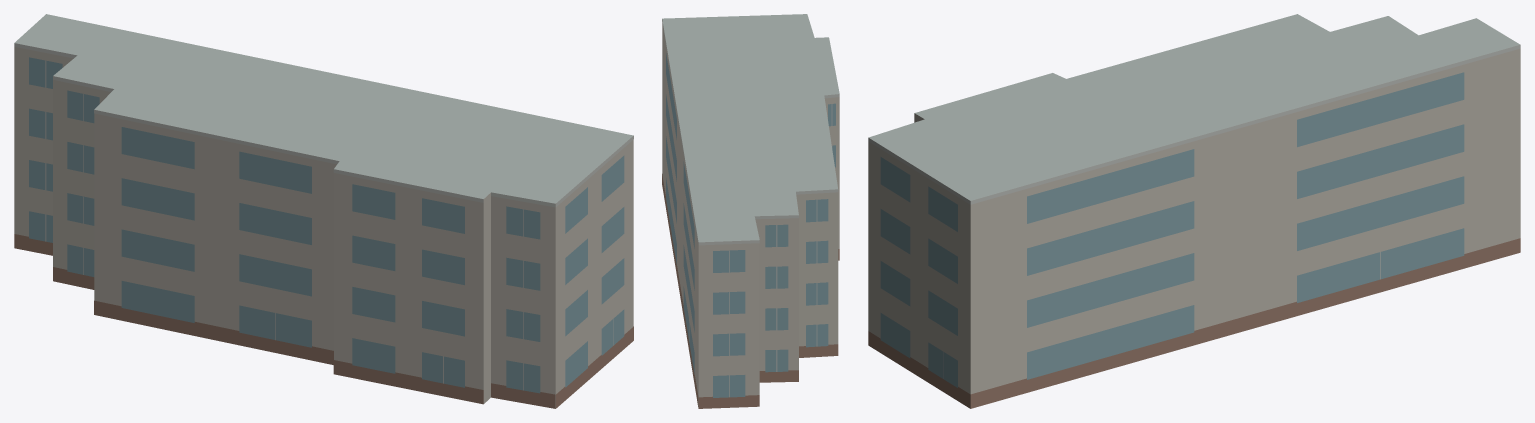
File: survey-upis-32767238.glb
3 views of the same model, side by side, from view 1: azimuth 30°, elevation 25°; view 2: azimuth 150°, elevation 25°; view 3: azimuth 270°, elevation 25° (orthographic). The views are drawn at different scales.
Visible parts, largest first — view 1: survey-upis-32767238.tmp; view 2: survey-upis-32767238.tmp; view 3: survey-upis-32767238.tmp.
Part boxes in pixels (left/top/right/bottom): survey-upis-32767238.tmp: left=14, top=14, right=633, bottom=408; survey-upis-32767238.tmp: left=662, top=14, right=839, bottom=408; survey-upis-32767238.tmp: left=868, top=14, right=1520, bottom=408.
Bounding box in the file's own units: 25.86 × 13.4 × 38.1.
